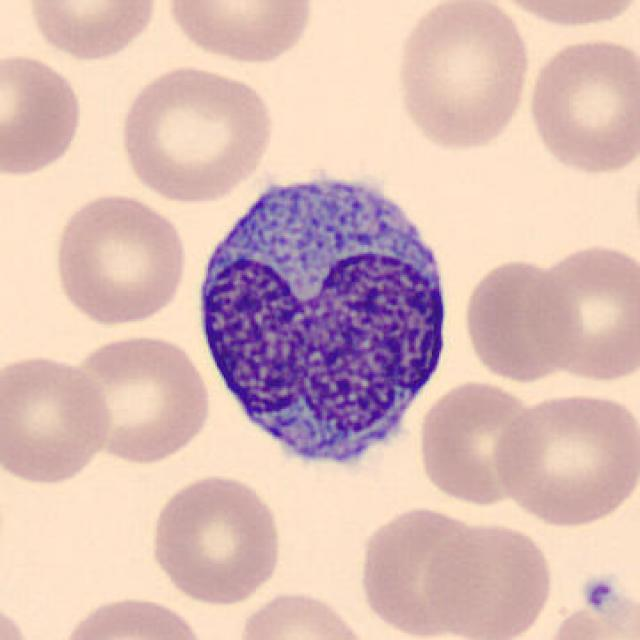Monocyte: (185, 150, 462, 485)
Platelets: (570, 570, 634, 624)
RBC: (114, 60, 277, 204), (389, 0, 534, 155), (489, 388, 638, 529), (62, 330, 215, 467), (48, 189, 190, 328), (353, 500, 492, 640), (146, 471, 286, 608), (414, 378, 542, 510), (523, 238, 638, 384), (419, 518, 556, 640), (523, 34, 638, 178), (0, 349, 116, 488), (458, 254, 578, 384), (0, 48, 87, 180), (162, 0, 318, 67), (21, 0, 161, 63), (53, 590, 209, 640), (235, 585, 373, 640), (542, 582, 638, 640), (482, 0, 640, 32), (0, 594, 37, 640)
